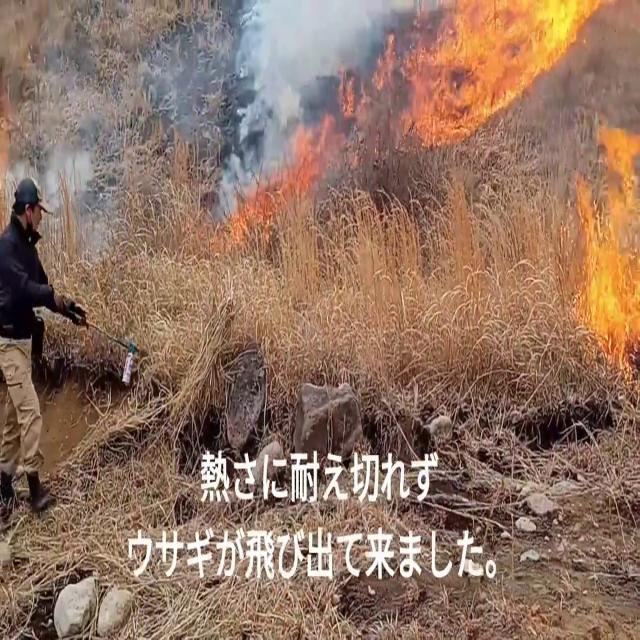Fire: (390, 0, 600, 144), (570, 113, 640, 371)
Smoke: (202, 0, 406, 217)
